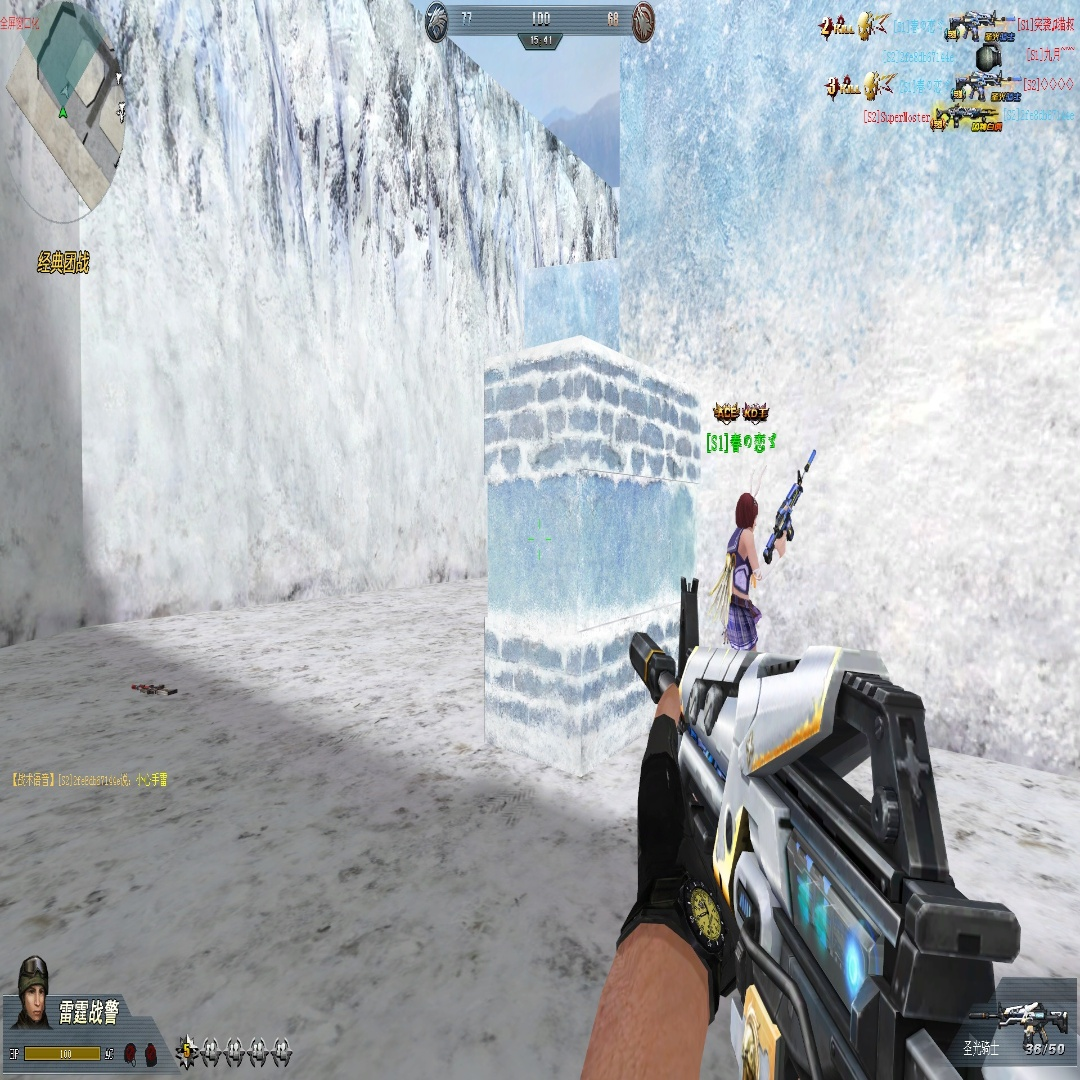t: (723, 491, 791, 650)
